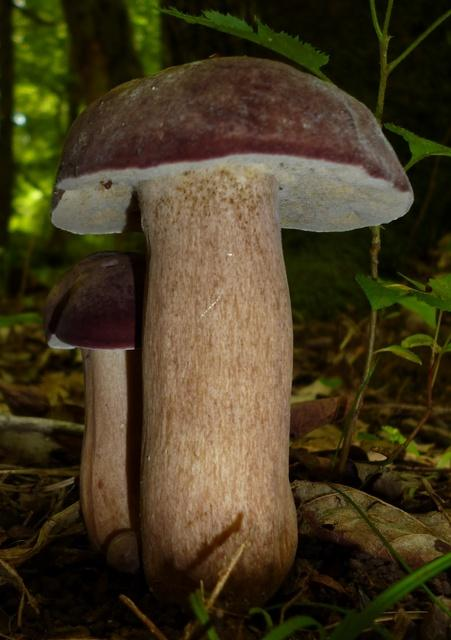Non-edible Mushroom: (47, 54, 415, 615)
